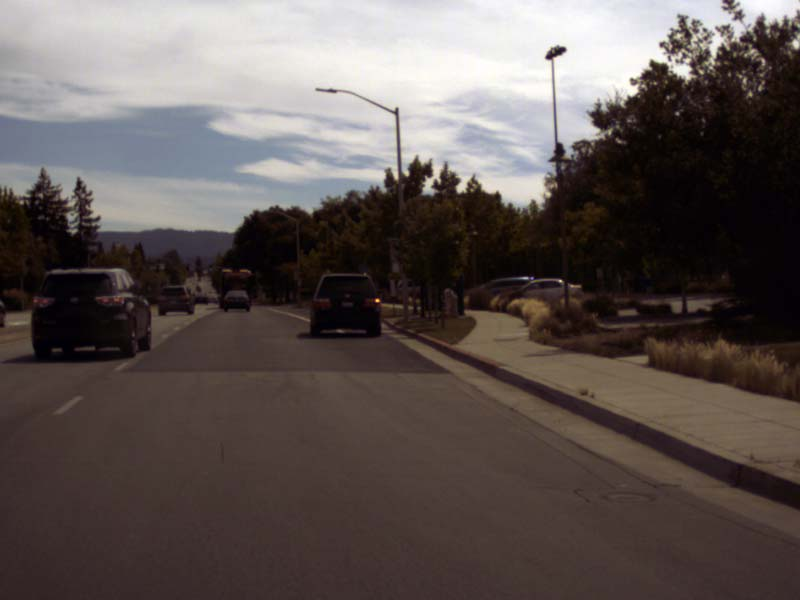Green: (209, 265, 212, 271)
